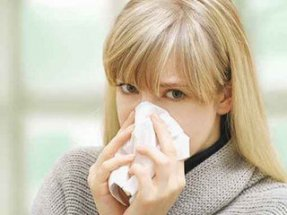face: (113, 47, 206, 165)
